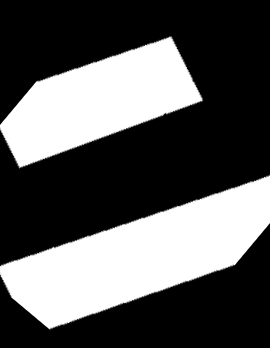parkingspot: (0, 175, 270, 329), (0, 37, 203, 168)
